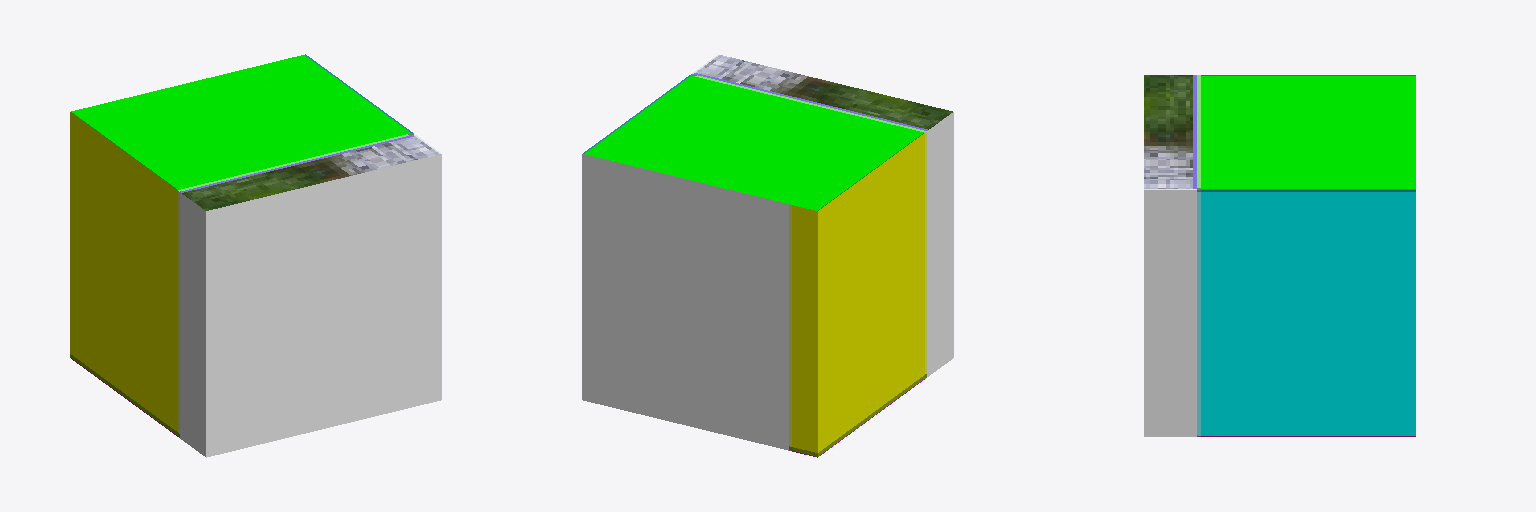
3 views of the same model, side by side, from view 1: azimuth 30°, elevation 25°; view 2: azimuth 150°, elevation 25°; view 3: azimuth 270°, elevation 25° (orthographic).
Parts seen in each view (by area): view 1: Cube; view 2: Cube; view 3: Cube.
Part boxes in pixels (left/top/right/bottom): Cube: left=70, top=54, right=441, bottom=457; Cube: left=582, top=54, right=953, bottom=457; Cube: left=1144, top=75, right=1415, bottom=436.
Size of the model in its own units: 2 by 2 by 2.
Materials: 1 (1 with a texture image).